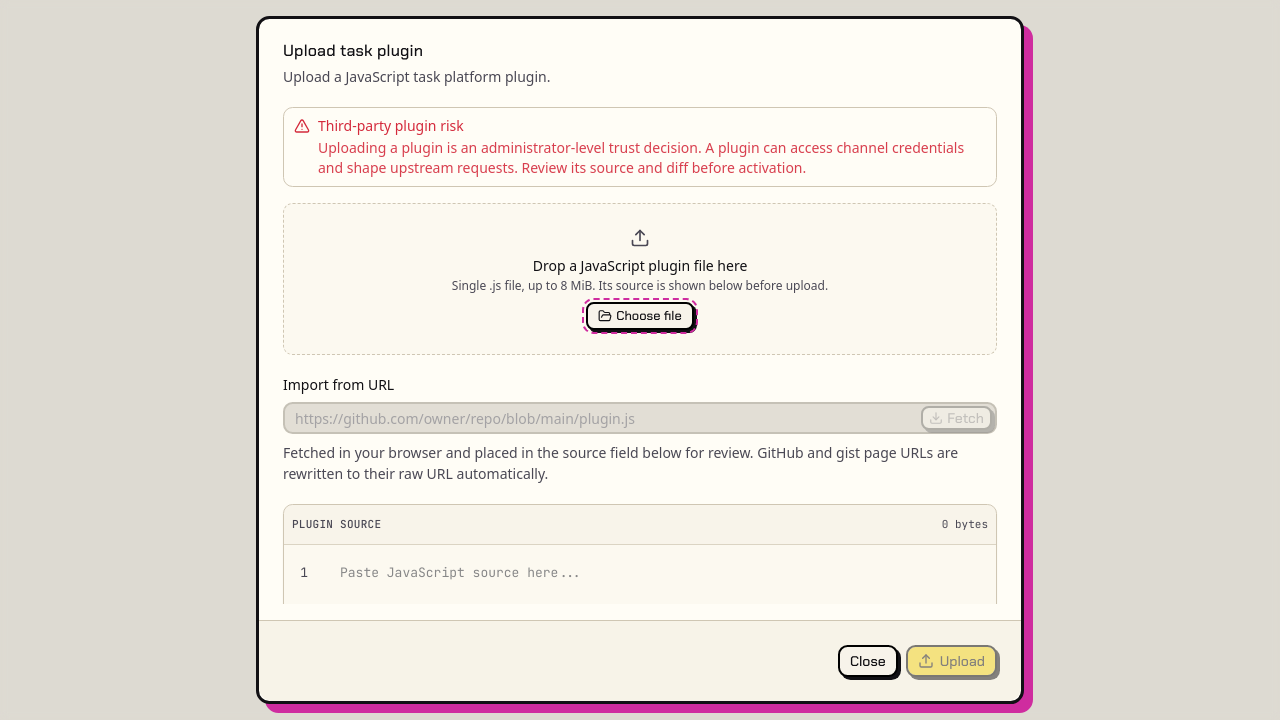
Test: UploadDialog URL import › fetches on Enter and marks the field invalid when the URL is not absolute
Type "plugin.js" into the field labelled "Import from URL" at x=603, y=418, box [285,402,921,434]
Then press Enter
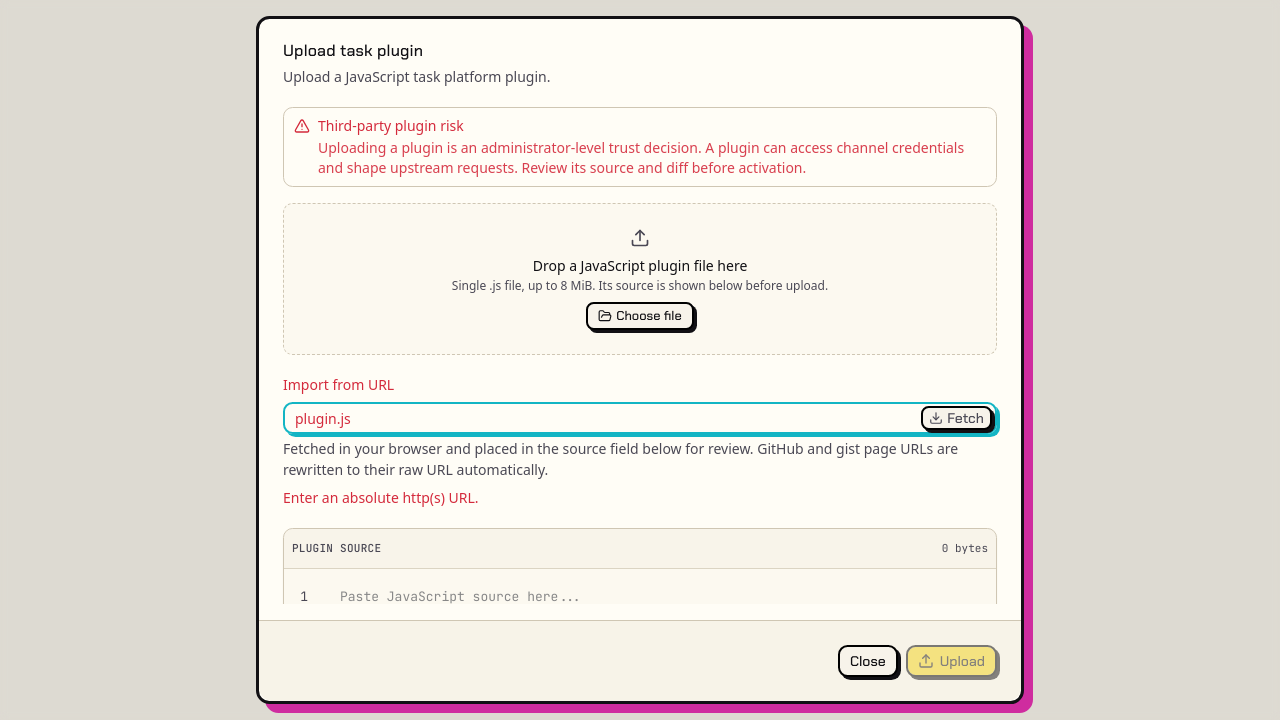
Result: the text "Enter an absolute http(s) URL." is shown at [283,488,479,507]
